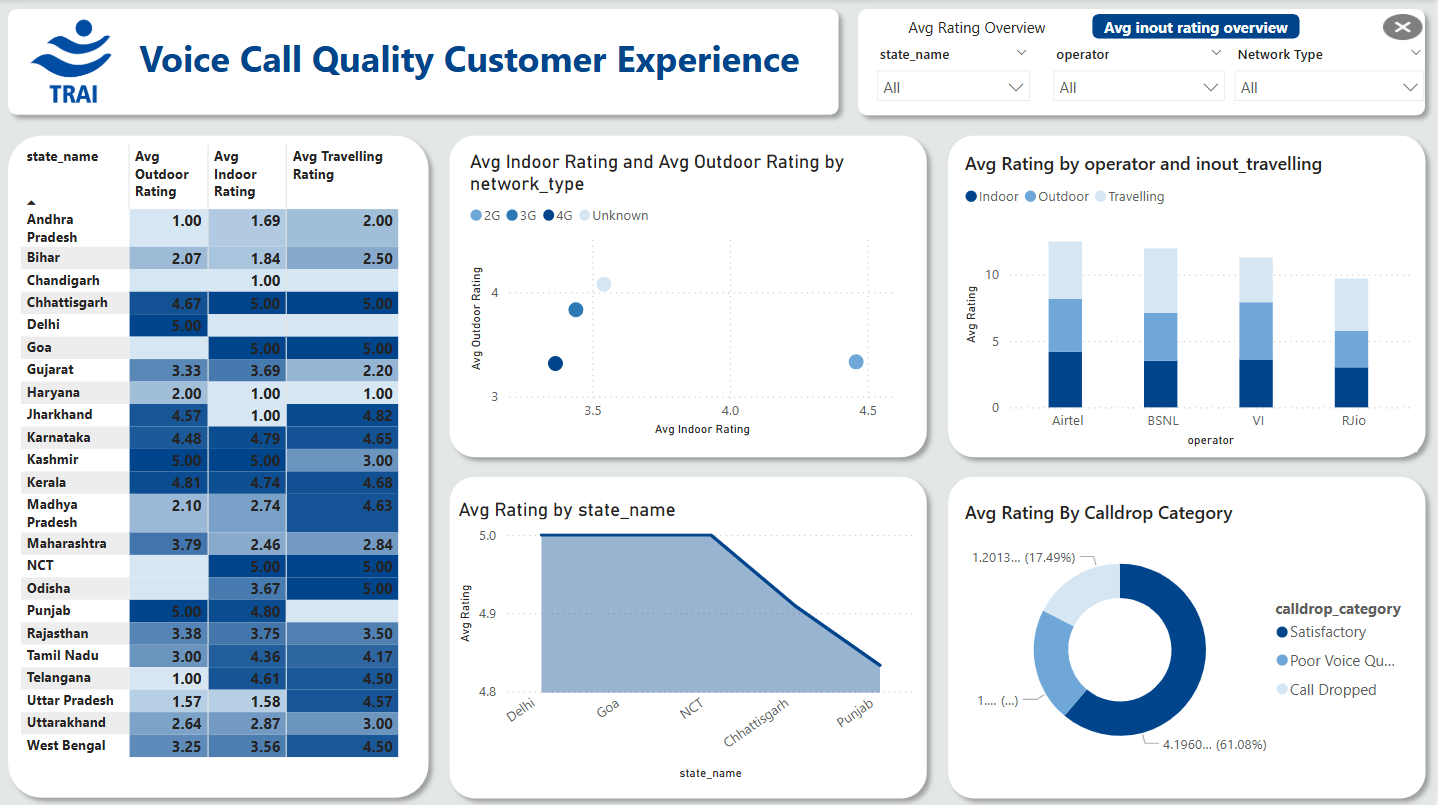

This screenshot's page, from the dashboard's own definition file:
{"tool":"powerbi","page":{"name":"Avg inout rating overview","canvas":[1280,720],"ordinal":1},"visuals":[{"type":"shape","box":[392.5,112.5,443.2,304.6],"z":0},{"type":"shape","box":[837.1,415.8,443.2,304.6],"z":1000},{"type":"shape","box":[392.5,415.8,443.2,304.6],"z":2000},{"type":"shape","box":[0,112.5,392.5,607.9],"z":3000},{"type":"shape","box":[0,0,757.6,112.2],"z":4000},{"type":"image","box":[15.7,13.3,98.9,84.5],"z":5000},{"type":"textbox","box":[114.6,25.3,618.9,72.4],"z":6000},{"type":"advancedSlicerVisual","fields":{"Values":["voicequality.state_name"]},"box":[891.6,183.4,353.5,82],"z":7000},{"type":"shape","box":[837.1,112.5,443.2,304.6],"z":8000},{"type":"donutChart","title":"Avg Rating By Calldrop Category","fields":{"Category":["voicequality.calldrop_category"],"Y":["voicequality.Avg Rating"]},"box":[856.6,445.2,405.4,247.3],"z":9000},{"type":"scatterChart","fields":{"X":["voicequality.Avg Indoor Rating"],"Y":["voicequality.Avg Outdoor Rating"],"Series":["voicequality.network_type"]},"box":[415,135.1,396.9,259.4],"z":10000},{"type":"columnChart","fields":{"Category":["voicequality.operator"],"Y":["voicequality.Avg Rating"],"Series":["voicequality.inout_travelling"]},"box":[856.6,135.1,407.8,269],"z":11000},{"type":"areaChart","fields":{"Category":["voicequality.state_name"],"Y":["voicequality.Avg Rating"]},"box":[404.8,444.6,415.8,256.6],"z":12000},{"type":"pivotTable","fields":{"Rows":["voicequality.state_name"],"Values":["voicequality.Avg Outdoor Rating","voicequality.Avg Indoor Rating","voicequality.Avg Travelling Rating"]},"box":[15.1,124.9,363.6,576.3],"z":13000},{"type":"shape","box":[757.2,0,522.8,112.5],"z":14000},{"type":"slicer","fields":{"Values":["voicequality.state_name"]},"box":[772.6,35.7,156.4,61.7],"z":15000},{"type":"slicer","fields":{"Values":["voicequality.operator"]},"box":[929,35.7,172.9,79.6],"z":16000},{"type":"slicer","fields":{"Values":["voicequality.network_type"]},"box":[1090.6,35.7,189.4,79.6],"z":17000},{"type":"pageNavigator","box":[779.4,13.3,381.2,22.9],"z":18000},{"type":"actionButton","box":[1233,13.3,35,22.9],"z":19000}]}

Visuals, with their boxes in screenshot pixels (x1, y1, x2, y2), scaled from the page's 1280x720 canvas onto the 1438x805 screenshot:
shape: BBox(441, 126, 939, 466)
shape: BBox(940, 465, 1437, 804)
shape: BBox(441, 465, 939, 804)
shape: BBox(0, 126, 441, 804)
shape: BBox(0, 0, 851, 125)
image: BBox(18, 15, 129, 109)
textbox: BBox(129, 28, 824, 109)
advancedSlicerVisual - voicequality.state_name: BBox(1002, 205, 1399, 297)
shape: BBox(940, 126, 1437, 466)
"Avg Rating By Calldrop Category" donutChart: BBox(962, 498, 1418, 774)
scatterChart - voicequality.Avg Indoor Rating x voicequality.Avg Outdoor Rating: BBox(466, 151, 912, 441)
columnChart - voicequality.operator x voicequality.Avg Rating: BBox(962, 151, 1420, 452)
areaChart - voicequality.state_name x voicequality.Avg Rating: BBox(455, 497, 922, 784)
pivotTable - voicequality.state_name x voicequality.Avg Outdoor Rating: BBox(17, 140, 425, 784)
shape: BBox(851, 0, 1437, 126)
slicer - voicequality.state_name: BBox(868, 40, 1044, 109)
slicer - voicequality.operator: BBox(1044, 40, 1238, 129)
slicer - voicequality.network_type: BBox(1225, 40, 1437, 129)
pageNavigator: BBox(876, 15, 1304, 40)
actionButton: BBox(1385, 15, 1425, 40)
